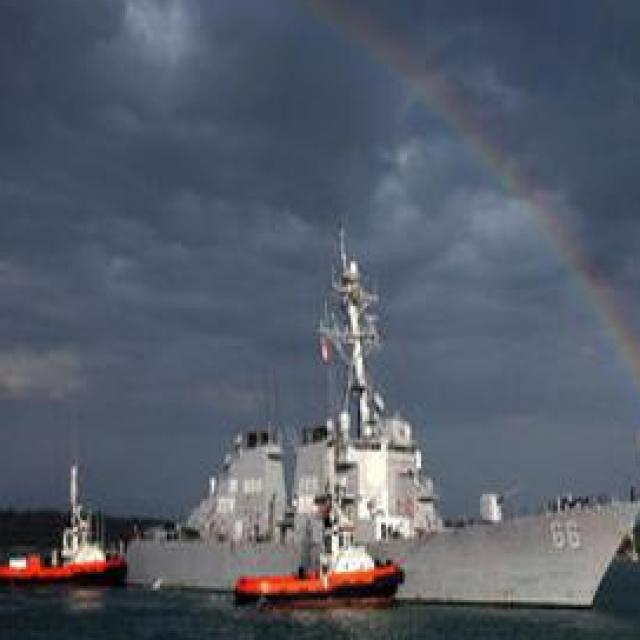navalvessels: (122, 242, 640, 612), (223, 508, 402, 602), (1, 462, 127, 588)
